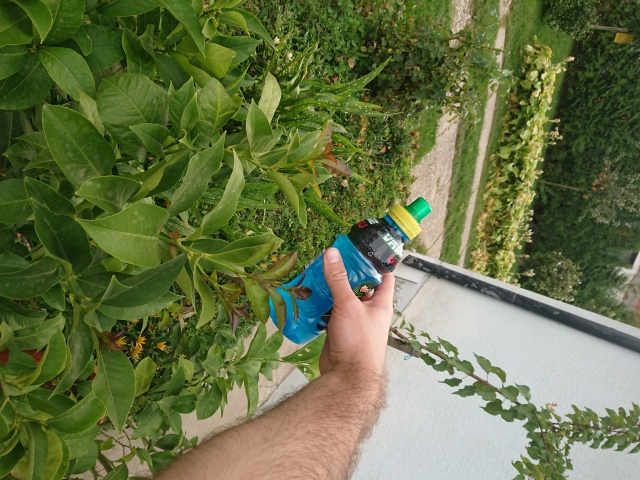Vindi Iso Sport Forest Strawberries 500mL: (262, 194, 434, 346)
